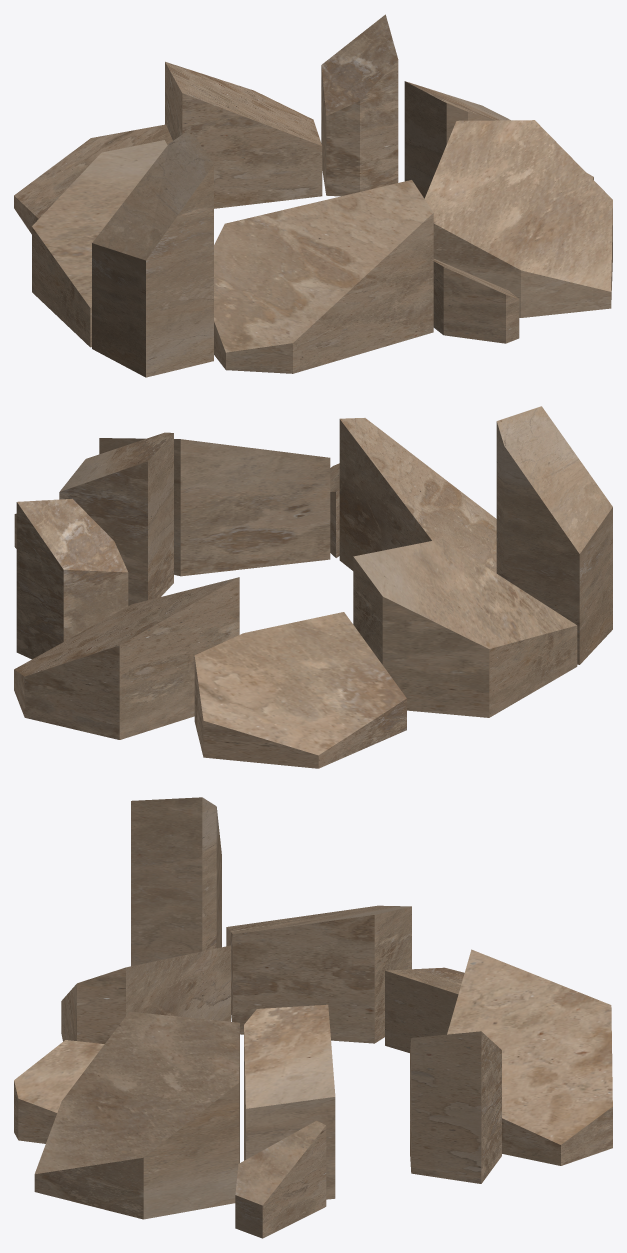
The model's file is Batu pinggir.fbx.
3 renders of one model, top to bottom at view 1: azimuth 30°, elevation 25°; view 2: azimuth 150°, elevation 25°; view 3: azimuth 270°, elevation 25°, orthographic. The views are drawn at different scales.
Parts seen in each view (by area): view 1: Batu_Baked.010; view 2: Batu_Baked.010; view 3: Batu_Baked.010.
Part boxes in pixels (bbox=[...]): Batu_Baked.010: bbox=[14, 14, 612, 377]; Batu_Baked.010: bbox=[14, 406, 612, 768]; Batu_Baked.010: bbox=[14, 797, 612, 1238].
Size of the model in its own units: 1812 by 681 by 1700.
1 material, 1 textured.
